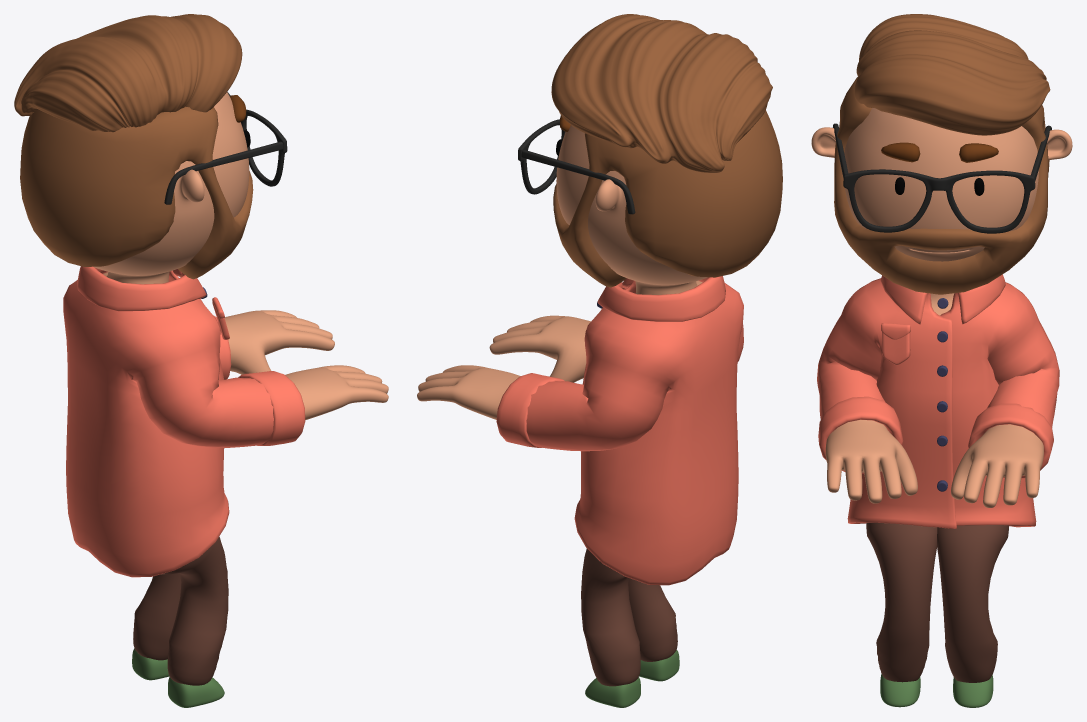
File: motion_designer.gltf
3 renders of one model, left to right at view 1: azimuth 30°, elevation 25°; view 2: azimuth 150°, elevation 25°; view 3: azimuth 270°, elevation 25°, orthographic. The views are drawn at different scales.
Visible parts, largest first — view 1: Shirt, Hair+beard, Hair_1, body, Cube.037, Cube.036, eyeglass_4, Cube.038, Cube.039; view 2: Shirt, Hair_1, Hair+beard, body, Cube.036, Cube.037, eyeglass_4, Cube.039, Cube.038; view 3: Shirt, body, Hair_1, Hair+beard, Cube.037, Cube.036, eyeglass_4, Cube.038, Cube.039, Eyebrow.007, Eyebrow.005.
Boxes of the visible parts, box(x1,y1,x2,y2) form: Shirt: box(63, 266, 305, 577); Hair+beard: box(20, 106, 253, 279); Hair_1: box(14, 14, 242, 132); body: box(93, 92, 388, 419); Cube.037: box(160, 536, 228, 685); Cube.036: box(133, 573, 181, 660); eyeglass_4: box(164, 92, 287, 204); Cube.038: box(168, 677, 224, 707); Cube.039: box(132, 648, 169, 680); Shirt: box(496, 276, 743, 585); Hair_1: box(551, 14, 772, 172); Hair+beard: box(553, 110, 782, 287); body: box(417, 125, 707, 419); Cube.036: box(581, 548, 640, 686); Cube.037: box(628, 578, 677, 661); eyeglass_4: box(518, 119, 635, 214); Cube.039: box(585, 677, 640, 707); Cube.038: box(639, 650, 679, 681); Shirt: box(817, 274, 1059, 528); body: box(811, 108, 1072, 507); Hair_1: box(854, 14, 1050, 135); Hair+beard: box(834, 77, 1049, 294); Cube.037: box(866, 522, 937, 682); Cube.036: box(937, 525, 1009, 682); eyeglass_4: box(832, 123, 1051, 233); Cube.038: box(880, 674, 920, 707); Cube.039: box(953, 675, 993, 707); Eyebrow.007: box(882, 142, 998, 162); Eyebrow.005: box(881, 142, 994, 162).
Bounding box in the file's own units: 5.9 × 11.76 × 4.26.
